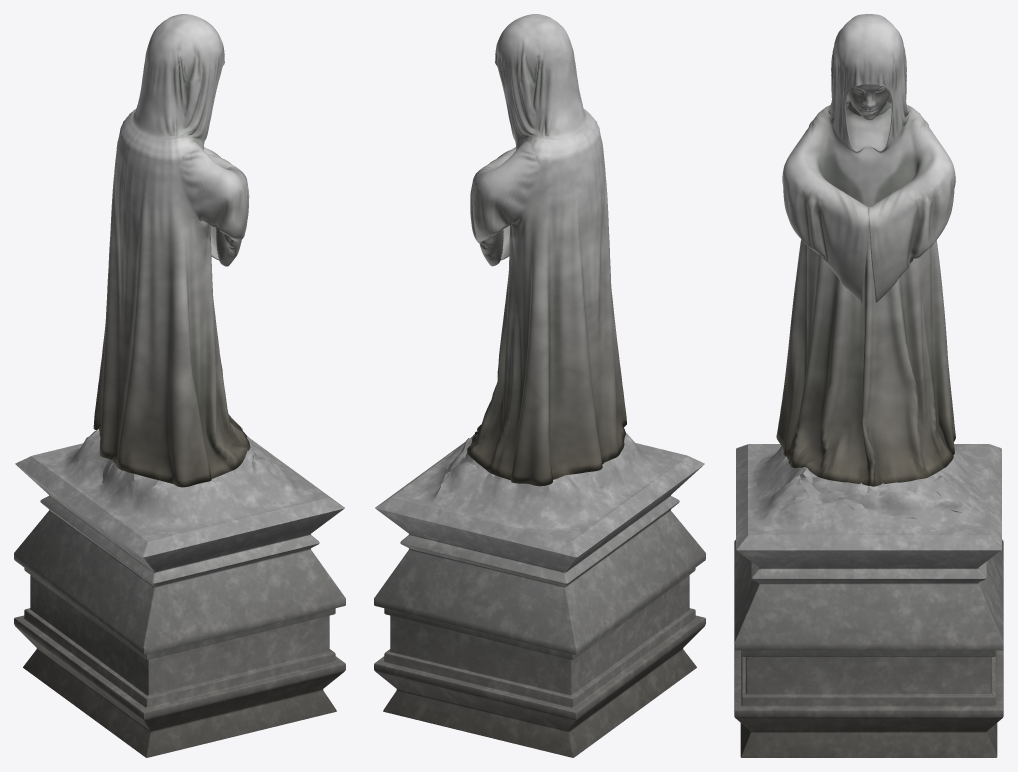
Rendered from Estatua.fbx.
The picture shows the model from 3 angles, left to right: view 1: azimuth 30°, elevation 25°; view 2: azimuth 150°, elevation 25°; view 3: azimuth 270°, elevation 25°; orthographic projection. The views are drawn at different scales.
Parts seen in each view (by area): view 1: Tomb, Statue; view 2: Tomb, Statue; view 3: Tomb, Statue.
Part boxes in pixels (x1=…): Tomb: x1=14, y1=430, x2=345, y2=757; Statue: x1=93, y1=14, x2=250, y2=487; Tomb: x1=374, y1=433, x2=705, y2=757; Statue: x1=467, y1=14, x2=626, y2=486; Tomb: x1=734, y1=444, x2=1003, y2=757; Statue: x1=776, y1=14, x2=955, y2=486.
Size of the model in its own units: 468 by 1478 by 520.
